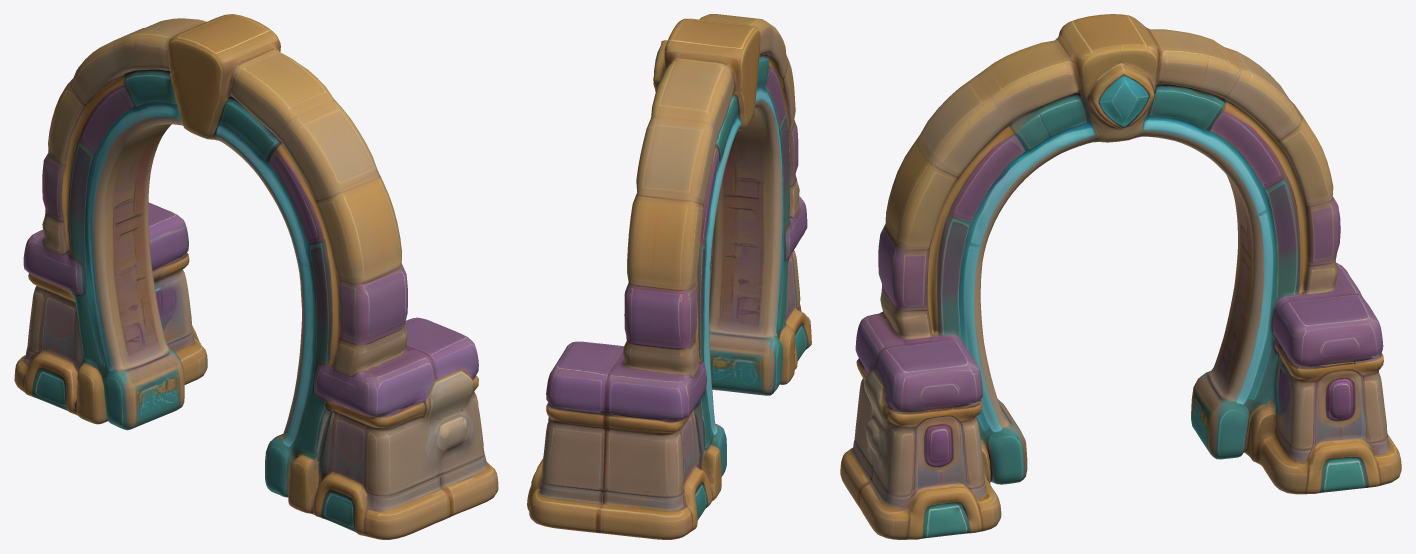
Rendered from 04-garden-portal-arch.glb.
The picture shows the model from 3 angles, left to right: view 1: azimuth 30°, elevation 25°; view 2: azimuth 150°, elevation 25°; view 3: azimuth 270°, elevation 25°; orthographic projection. The views are drawn at different scales.
Visible parts, largest first — view 1: tripo_node_7e82de84; view 2: tripo_node_7e82de84; view 3: tripo_node_7e82de84.
Boxes of the visible parts, bbox=[...] form: tripo_node_7e82de84: bbox=[14, 14, 498, 539]; tripo_node_7e82de84: bbox=[527, 14, 811, 539]; tripo_node_7e82de84: bbox=[840, 14, 1401, 539].
Size of the model in its own units: 0.7563 by 1.2 by 1.4.
1 material, 1 textured.
